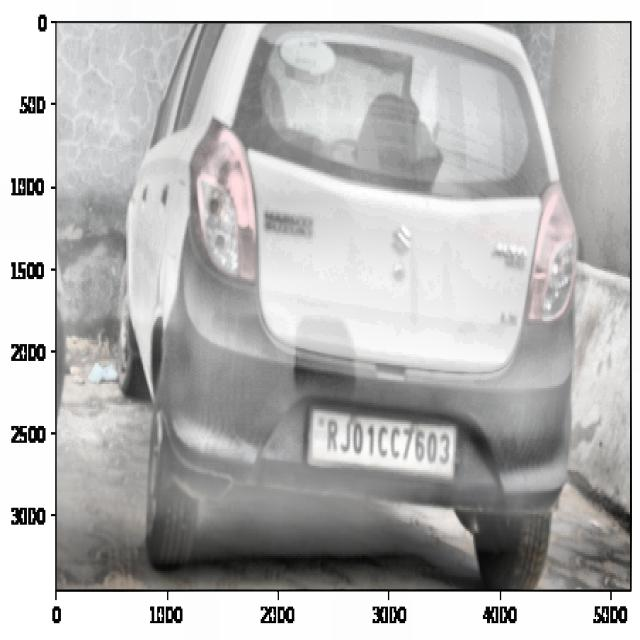license_plate: (320, 412, 455, 472)
